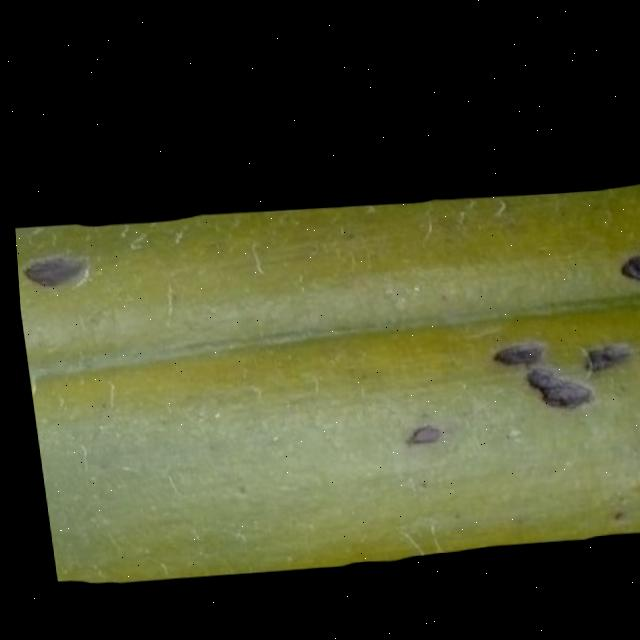mite: (473, 246, 640, 417), (520, 361, 591, 411), (574, 338, 633, 373), (486, 338, 543, 367)
sunburn: (13, 247, 90, 293), (609, 247, 640, 287)
